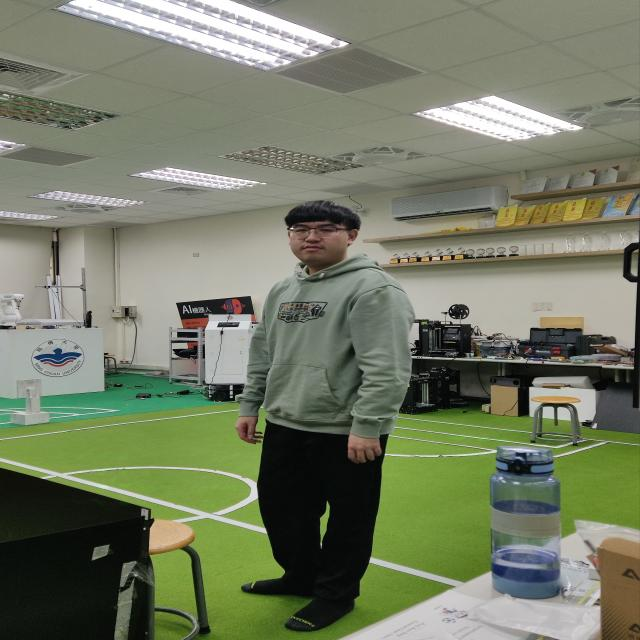person: (223, 185, 414, 630)
